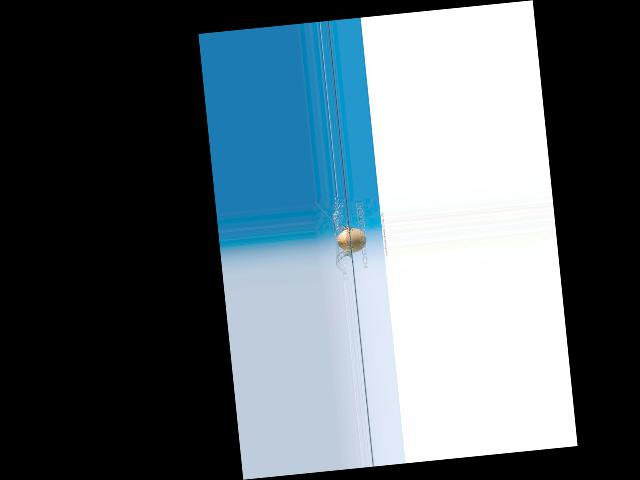egg: (336, 227, 367, 254)
